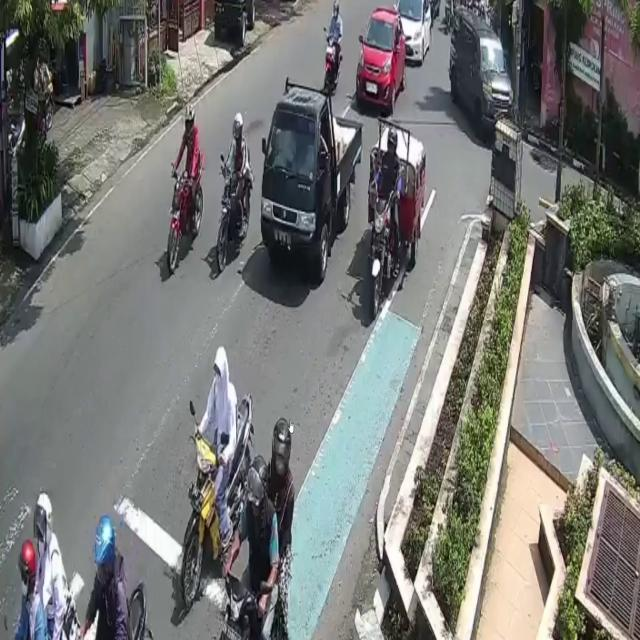bus: (180, 384, 253, 604), (169, 147, 205, 270), (216, 153, 251, 270), (371, 189, 395, 320), (322, 28, 343, 98)
motorcycle: (258, 81, 364, 304), (446, 4, 518, 148), (356, 8, 408, 110), (393, 0, 437, 68)
